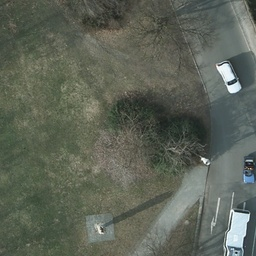car: (215, 61, 242, 96), (241, 152, 256, 183)
